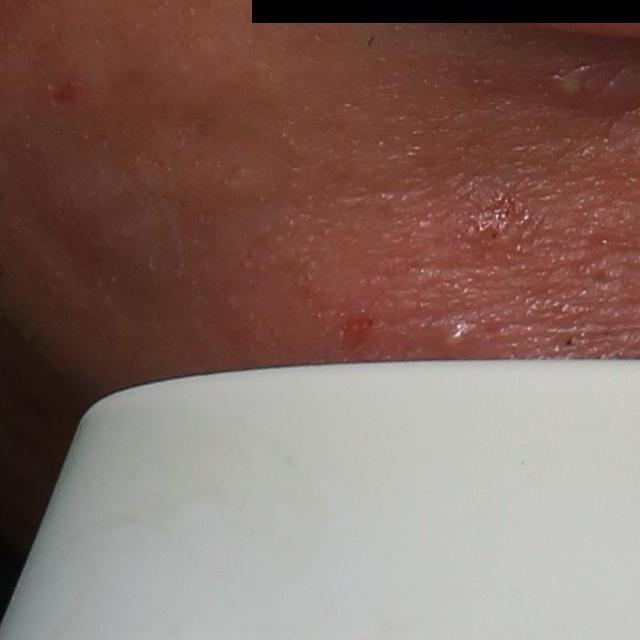nodule: (31, 166, 159, 297)
pustule: (547, 55, 600, 105), (435, 319, 479, 358)
